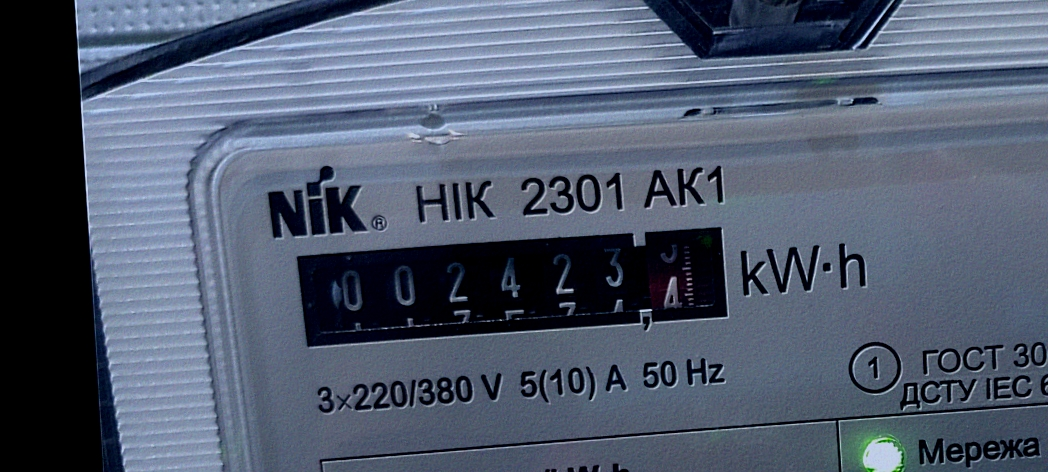0: (338, 265, 367, 315), (391, 262, 419, 309)
2: (442, 258, 471, 305), (550, 251, 576, 298)
3: (601, 244, 627, 290), (658, 241, 681, 265)
4: (497, 254, 522, 301), (658, 272, 685, 311)
screen: (286, 215, 742, 360)
